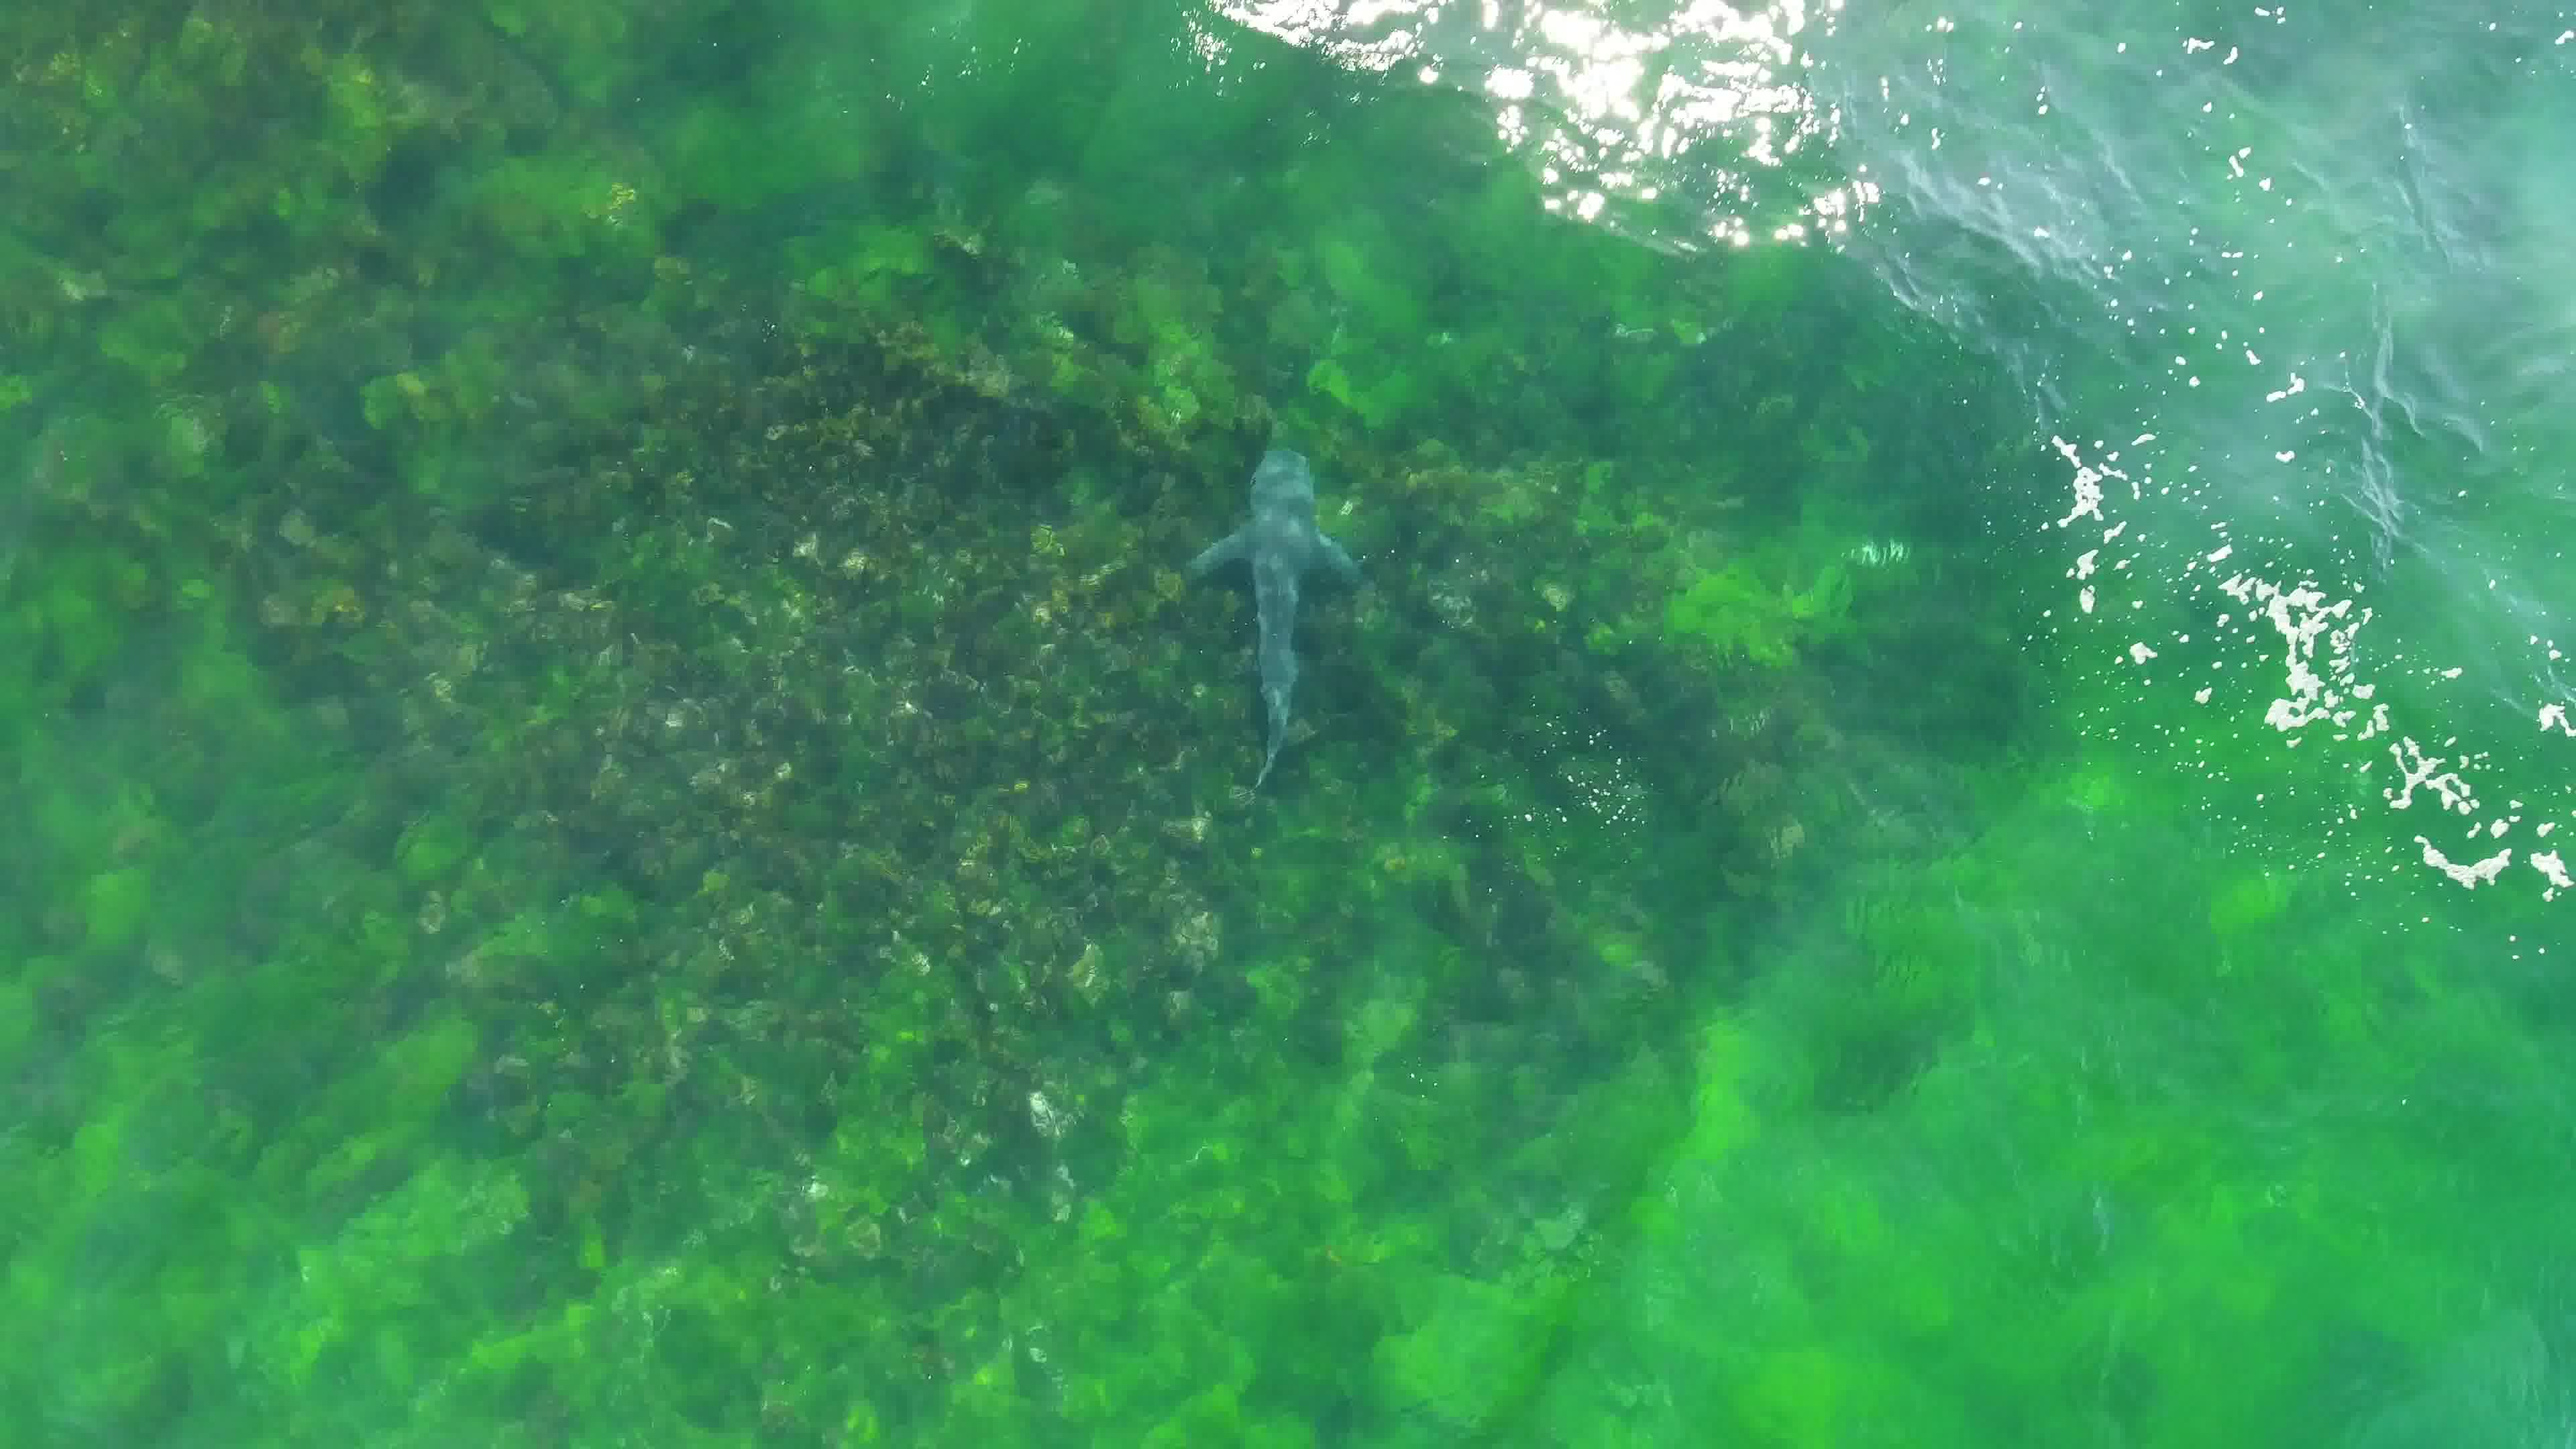shark: (1180, 435, 1387, 798)
